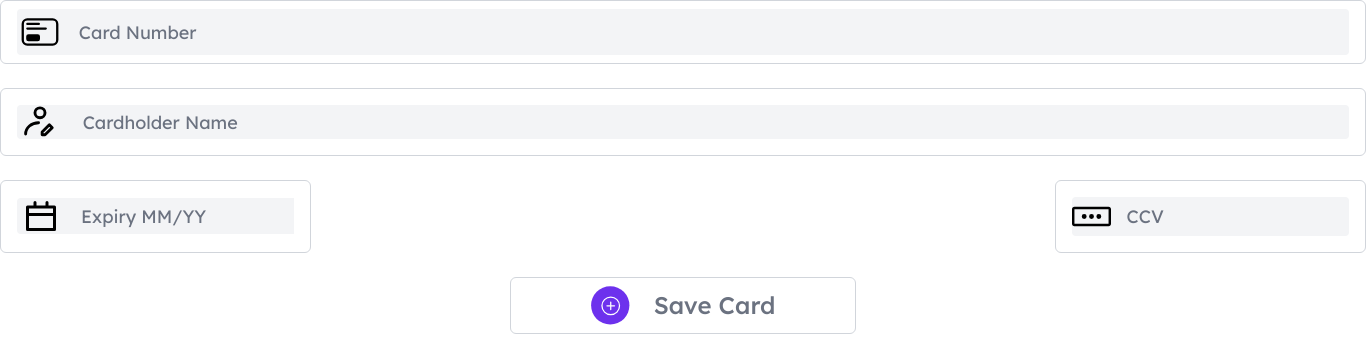
CardInput Component › shows error for invalid expiry date
The image size is (1366, 351).
In the field with placeholder "Expiry MM/YY": {"x": 188, "y": 216} [81,198,294,234], type "19/11"
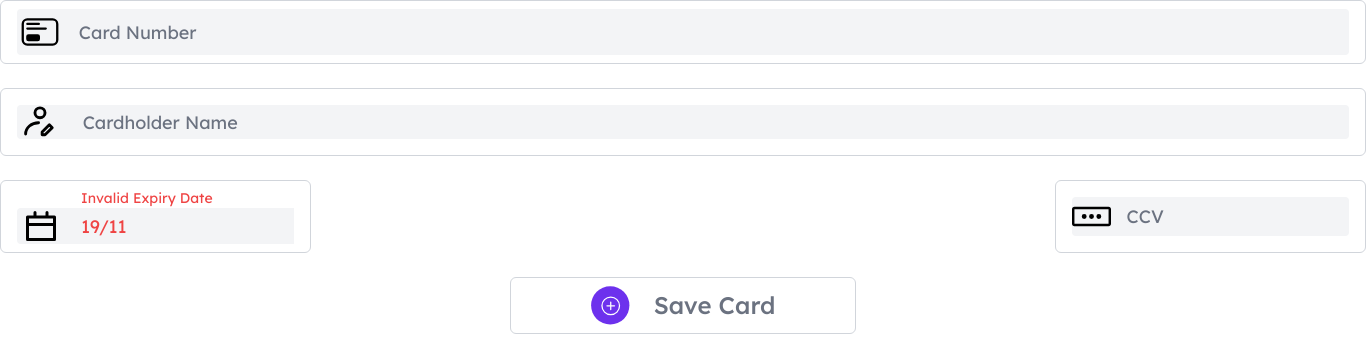
Result: the text "Invalid Expiry Date" is shown at [81,190,213,208]
